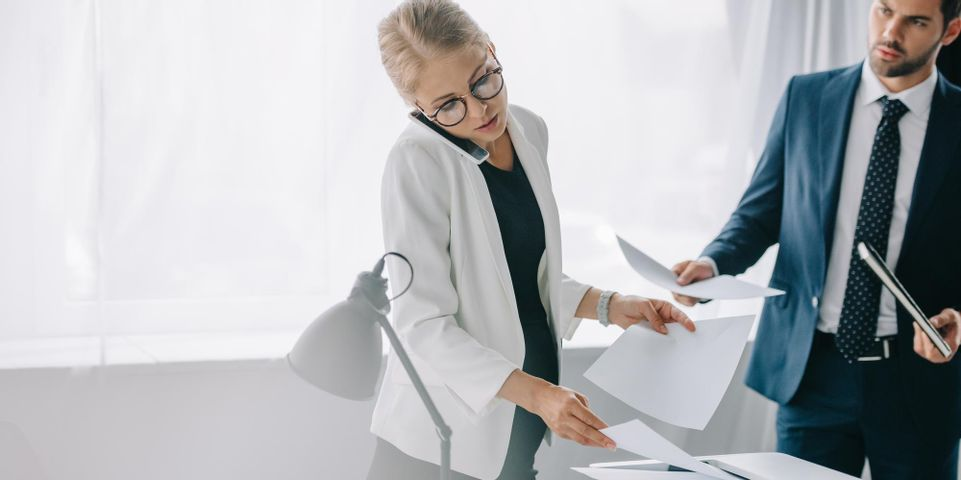paper: (576, 303, 760, 436), (612, 229, 788, 310), (578, 411, 751, 480)
